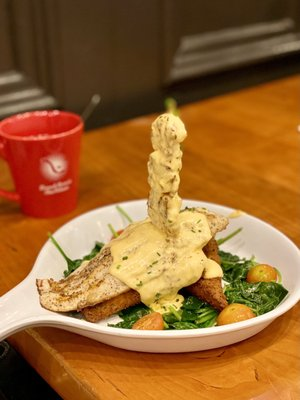curry: (162, 295, 218, 330)
pizza: (0, 108, 85, 219)
sushi: (2, 195, 300, 354)
